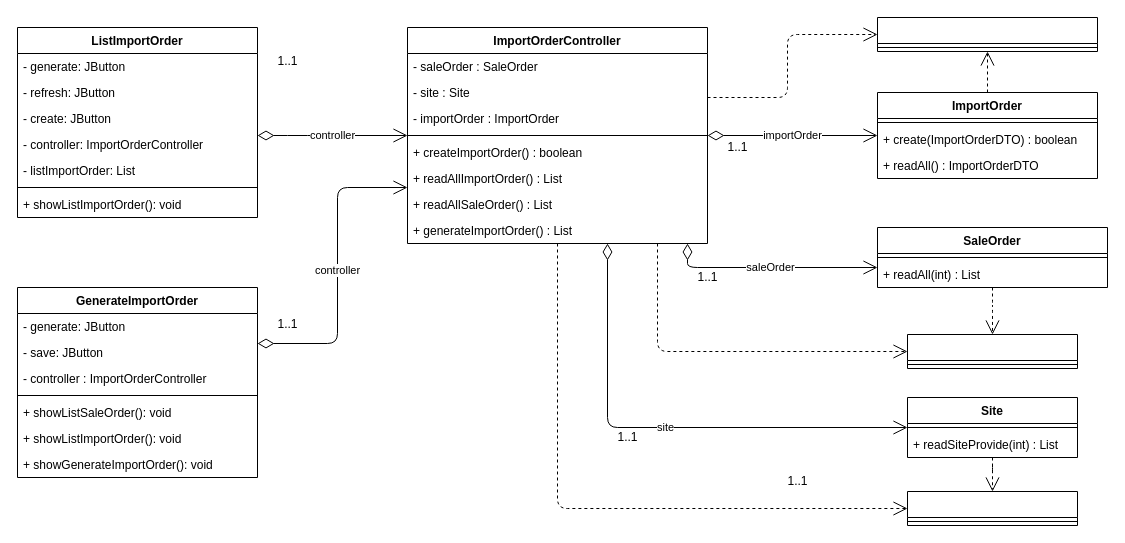
Image size: 1125x543. Some labels were removed from this diagram. The centre of each missing label's shape, as x and y in pixels:
ImportOrderDTO: the point at 987,34
SaleOrderDTO: the point at 992,351
SiteDTO: the point at 992,508
